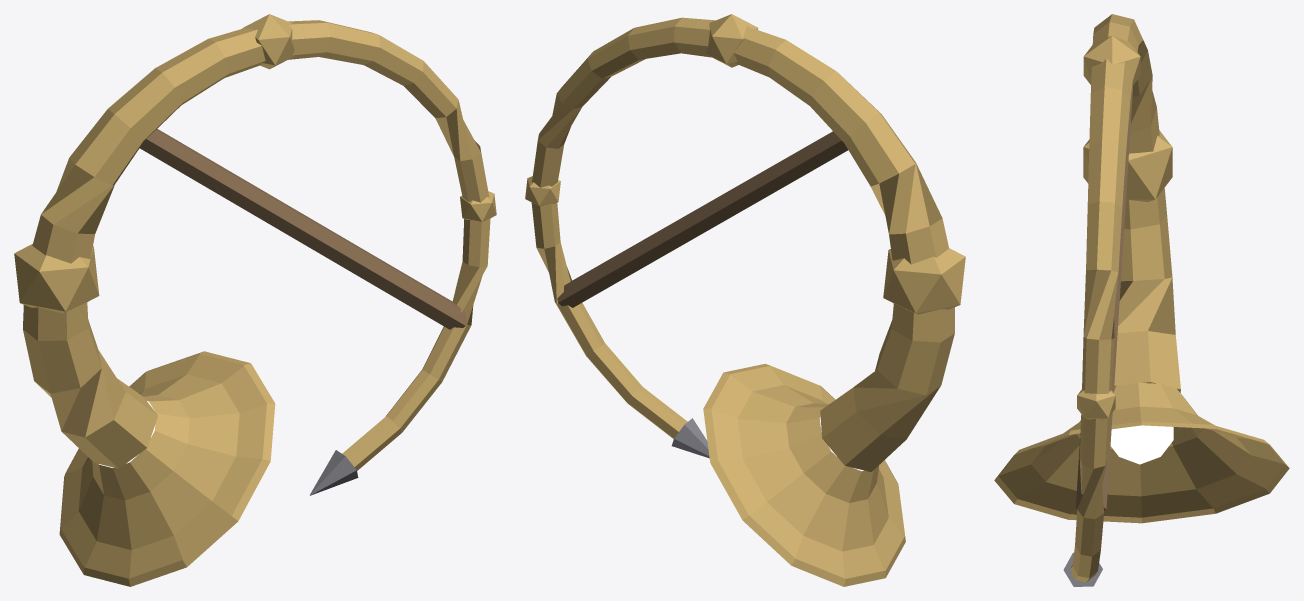
File: relic-horn.glb
3 views of the same model, side by side, from view 1: azimuth 30°, elevation 25°; view 2: azimuth 150°, elevation 25°; view 3: azimuth 270°, elevation 25° (orthographic). The views are drawn at different scales.
Visible parts, largest first — view 1: horn_body; view 2: horn_body; view 3: horn_body.
Part boxes in pixels (x1,y1,x2,y2): horn_body: (14, 14, 496, 586); horn_body: (525, 14, 965, 586); horn_body: (994, 14, 1289, 586).
Bounding box in the file's own units: 0.5276 × 0.5794 × 0.2677.
